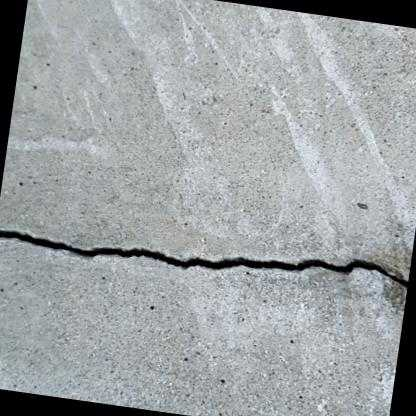crack: (0, 230, 408, 287)
